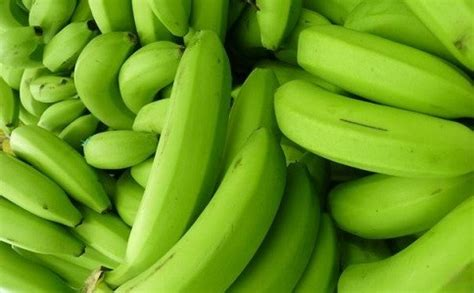banana: (92, 23, 236, 293), (117, 122, 289, 292), (269, 74, 474, 184), (294, 22, 474, 123), (4, 119, 118, 214), (69, 26, 141, 136)
